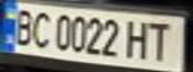0: (66, 12, 87, 55), (51, 11, 72, 52)
2: (100, 16, 127, 58), (84, 14, 106, 56)
B: (6, 6, 39, 47)
C: (27, 8, 54, 50)
H: (121, 17, 154, 61)
T: (145, 19, 178, 62)
